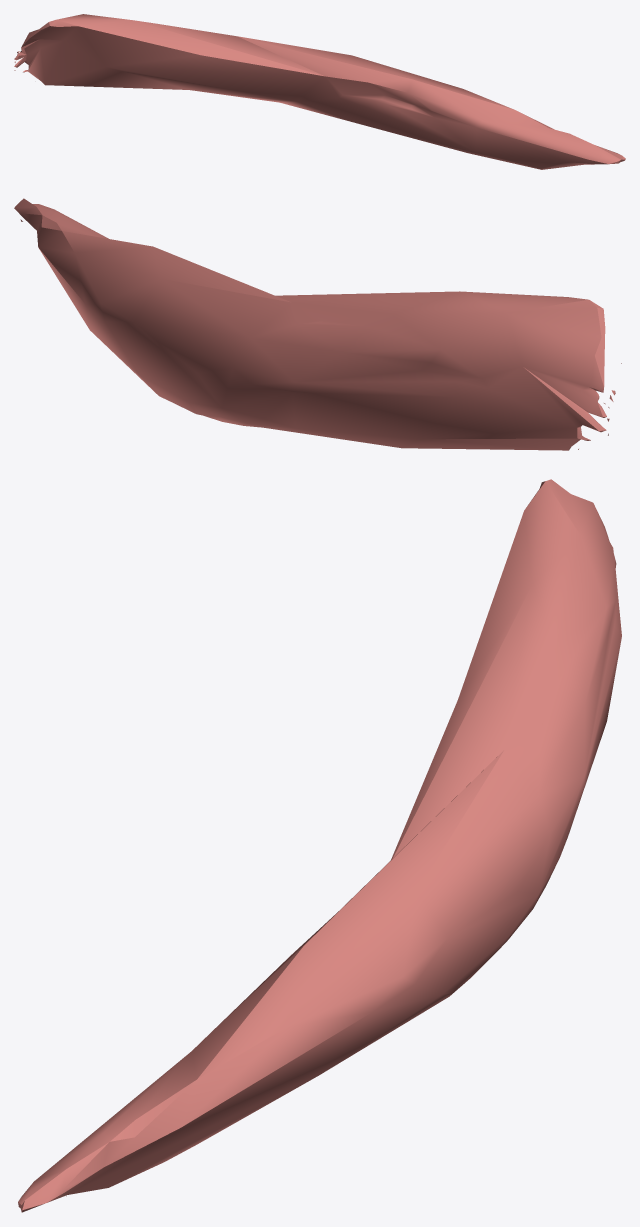
File: fma22335_fj1417m.glb
The picture shows the model from 3 angles, top to bottom: view 1: azimuth 30°, elevation 25°; view 2: azimuth 150°, elevation 25°; view 3: azimuth 270°, elevation 25°; orthographic projection. The views are drawn at different scales.
Visible parts, largest first — view 1: FMA22335_FJ1417M; view 2: FMA22335_FJ1417M; view 3: FMA22335_FJ1417M.
Boxes of the visible parts, x1,y1,x2,y2 form: FMA22335_FJ1417M: (14,14,625,169); FMA22335_FJ1417M: (14,198,621,450); FMA22335_FJ1417M: (18,479,621,1212).
Size of the model in its own units: 0.0799 by 0.027 by 0.0449.
